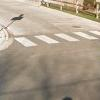Crosswalk: (14, 29, 99, 58)
